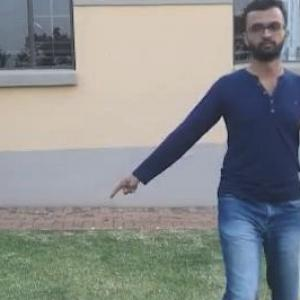land: (115, 20, 299, 299)
